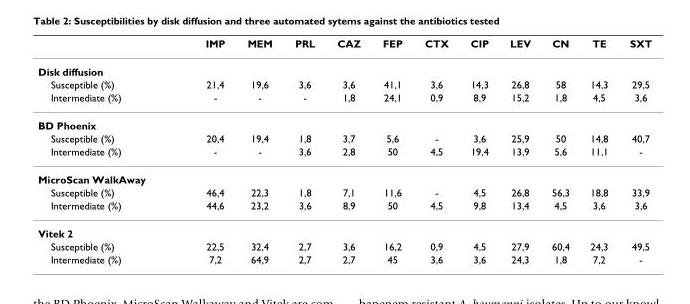table: (37, 36, 651, 265)
table column: (37, 36, 174, 265), (174, 36, 235, 265), (235, 36, 282, 265), (325, 36, 371, 265), (412, 36, 458, 265), (282, 36, 325, 265), (498, 36, 540, 265), (371, 36, 412, 265), (458, 36, 498, 265), (540, 36, 579, 265), (579, 36, 618, 265), (618, 36, 651, 265)
table column header: (37, 36, 651, 57)
table projected row header: (37, 218, 651, 239), (37, 57, 651, 77), (37, 111, 651, 131), (37, 165, 651, 185)
table row: (37, 36, 651, 57), (37, 90, 651, 111), (37, 144, 651, 165), (37, 218, 651, 239), (37, 57, 651, 77), (37, 111, 651, 131), (37, 165, 651, 185), (37, 198, 651, 218), (37, 77, 651, 90), (37, 131, 651, 144), (37, 185, 651, 198), (37, 239, 651, 252), (37, 252, 651, 265)
